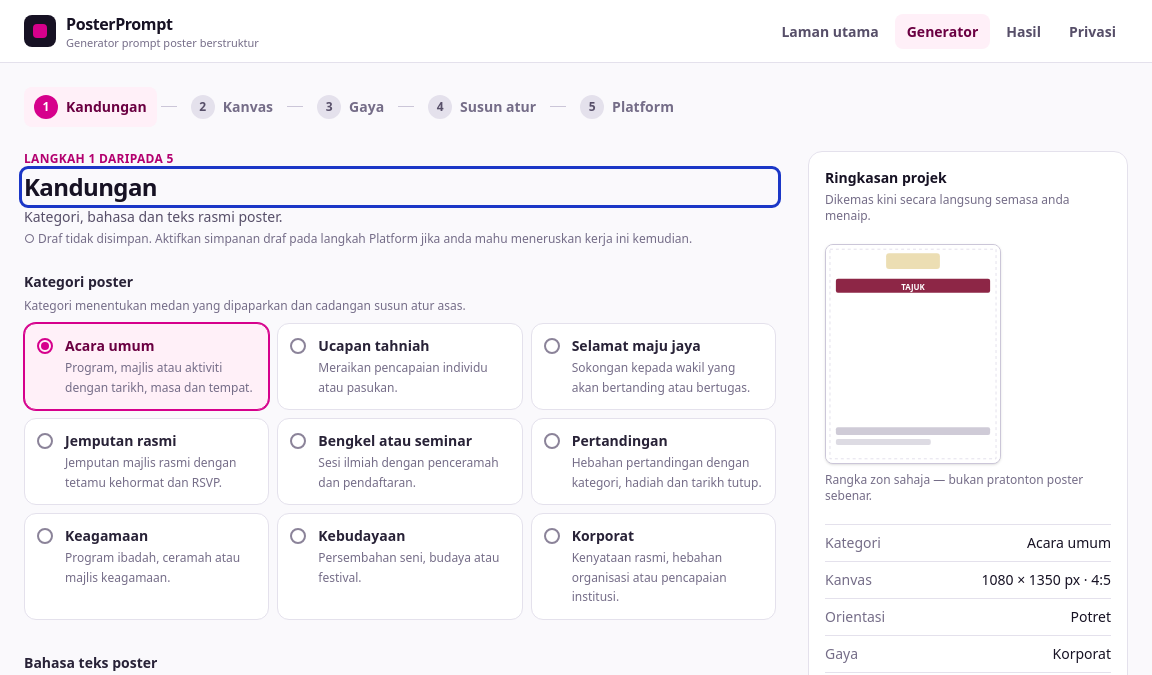
Test: wizard — medan dinamik mengikut kategori (UAT-02, FR-004) › menukar kepada ucapan tahniah menjadikan nama dan pencapaian wajib
Click the radio button labelled "Ucapan tahniah Meraikan pencapaian individu atau pasukan." at (400, 367), box [277, 323, 523, 410]
(page scrolled)
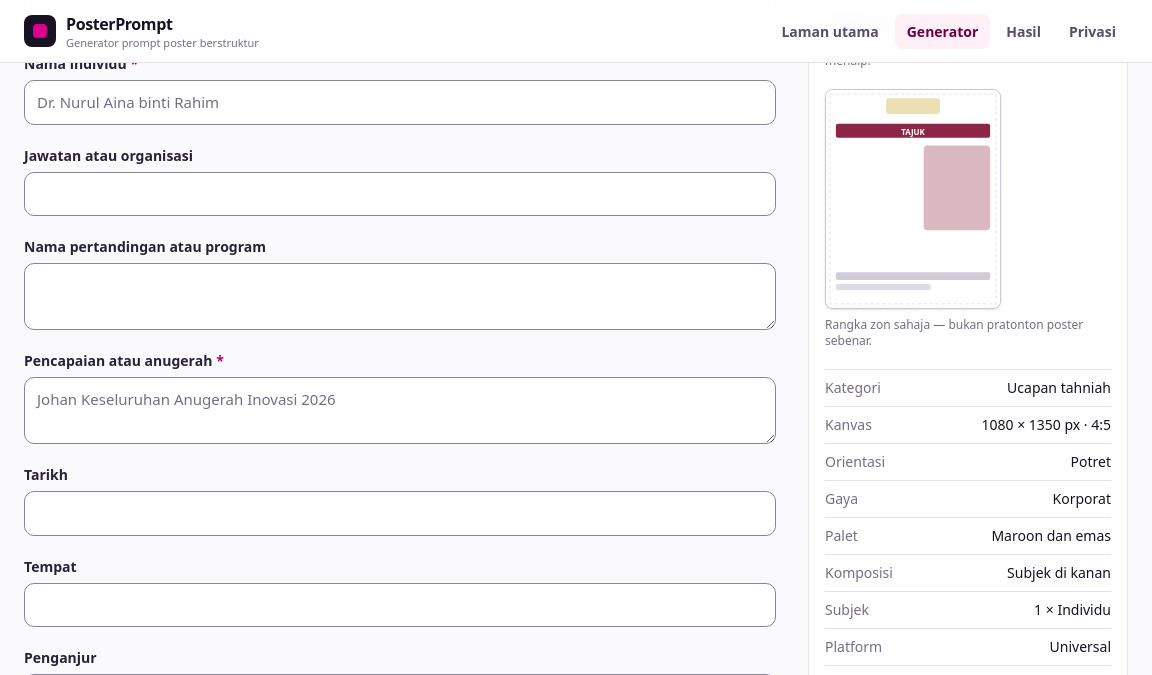
Now the field labelled "Nama individu*" is shown, box [24, 80, 776, 125]
Now the text box labelled "Pencapaian atau anugerah*" is shown, box [24, 377, 776, 444]
Now the text "Pencapaian atau anugerah" shows "*", box [216, 351, 224, 370]
